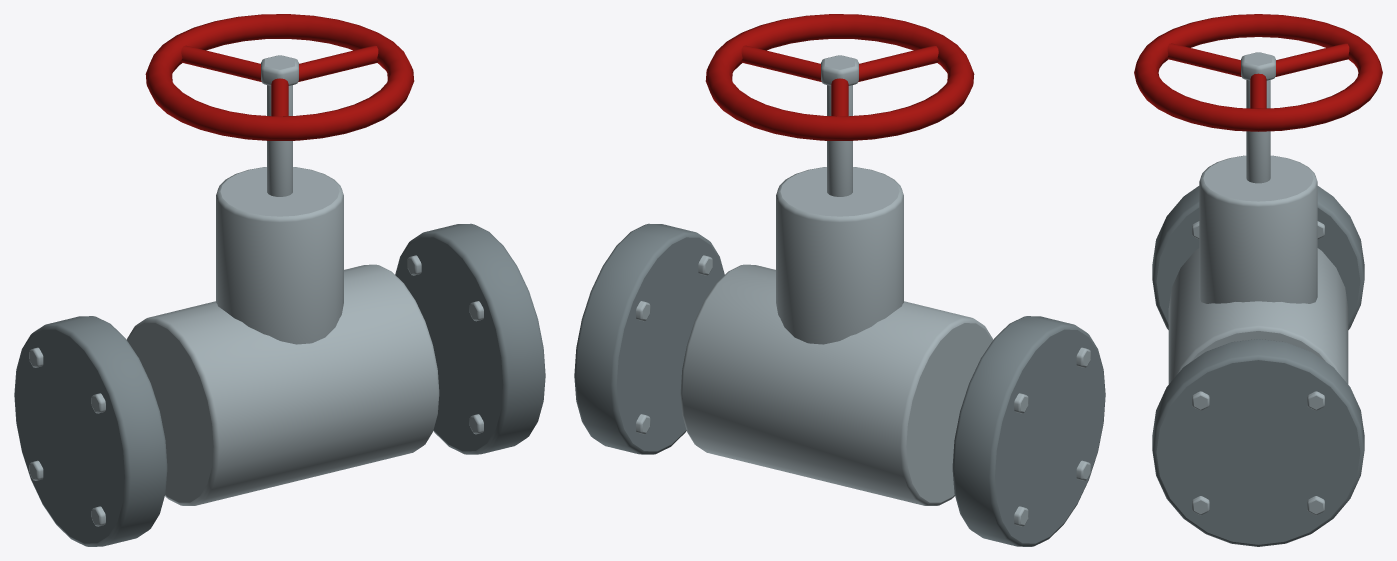
File: OAA_PipeValve_Gate.fbx
The picture shows the model from 3 angles, left to right: view 1: azimuth 30°, elevation 25°; view 2: azimuth 150°, elevation 25°; view 3: azimuth 270°, elevation 25°; orthographic projection. The views are drawn at different scales.
Parts seen in each view (by area): view 1: Body; view 2: Body; view 3: Body.
Part boxes in pixels (x1=…): Body: x1=14, y1=14, x2=545, y2=546; Body: x1=574, y1=14, x2=1105, y2=546; Body: x1=1134, y1=14, x2=1382, y2=546.
Size of the model in its own units: 0.226 by 0.2135 by 0.122.
